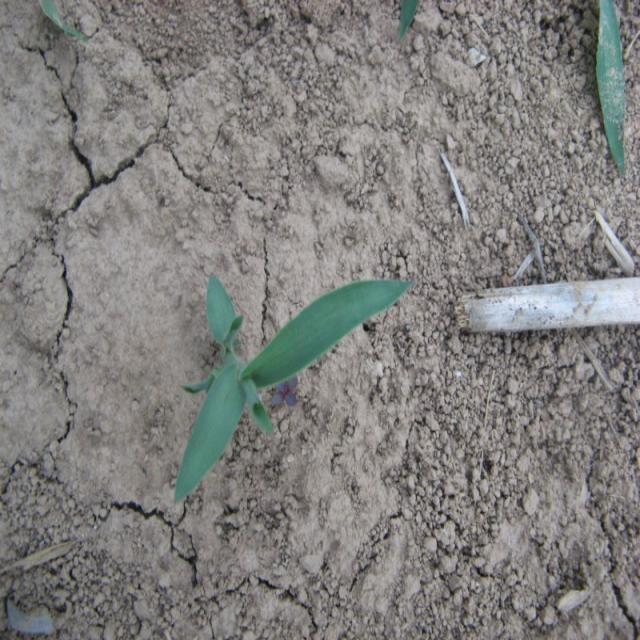bg: (172, 263, 413, 500)
